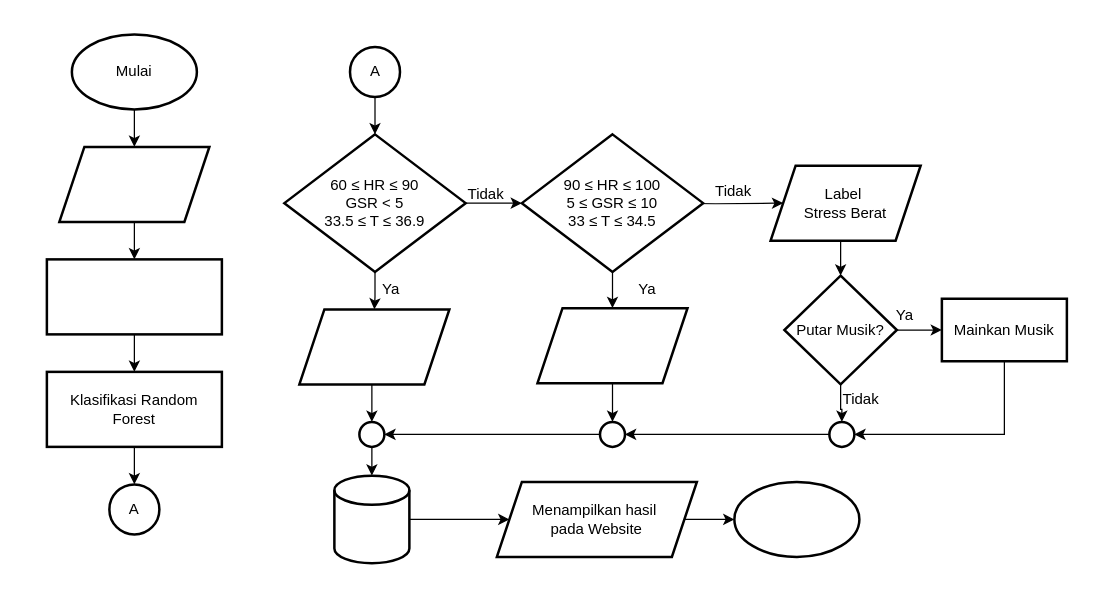
The diagram is 1105 pixels wide and 605 high, and some of its shapes have lost their labels. Each missing label, with the box of its shape:
Instalasi library, variabel dan pin: (58, 145, 210, 222)
Label Normal: (298, 308, 450, 385)
Label Stress Sedang: (536, 306, 688, 384)
Mengambil data dari sensor MAX30102, GSR dan DS18B20: (45, 258, 222, 335)
Selesai: (732, 480, 860, 558)
